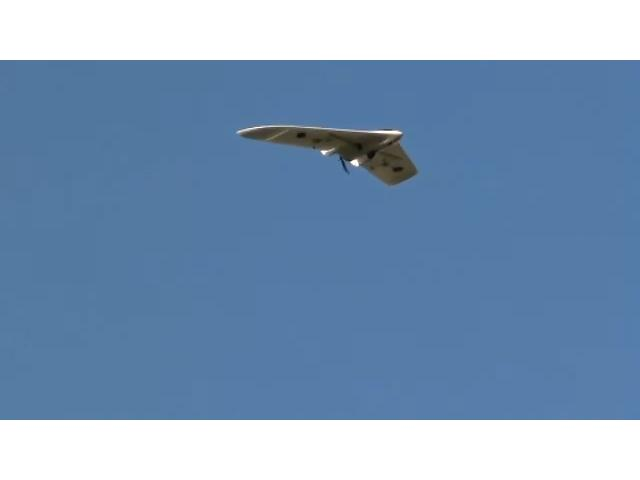Anti-Drone: (239, 125, 419, 187)
